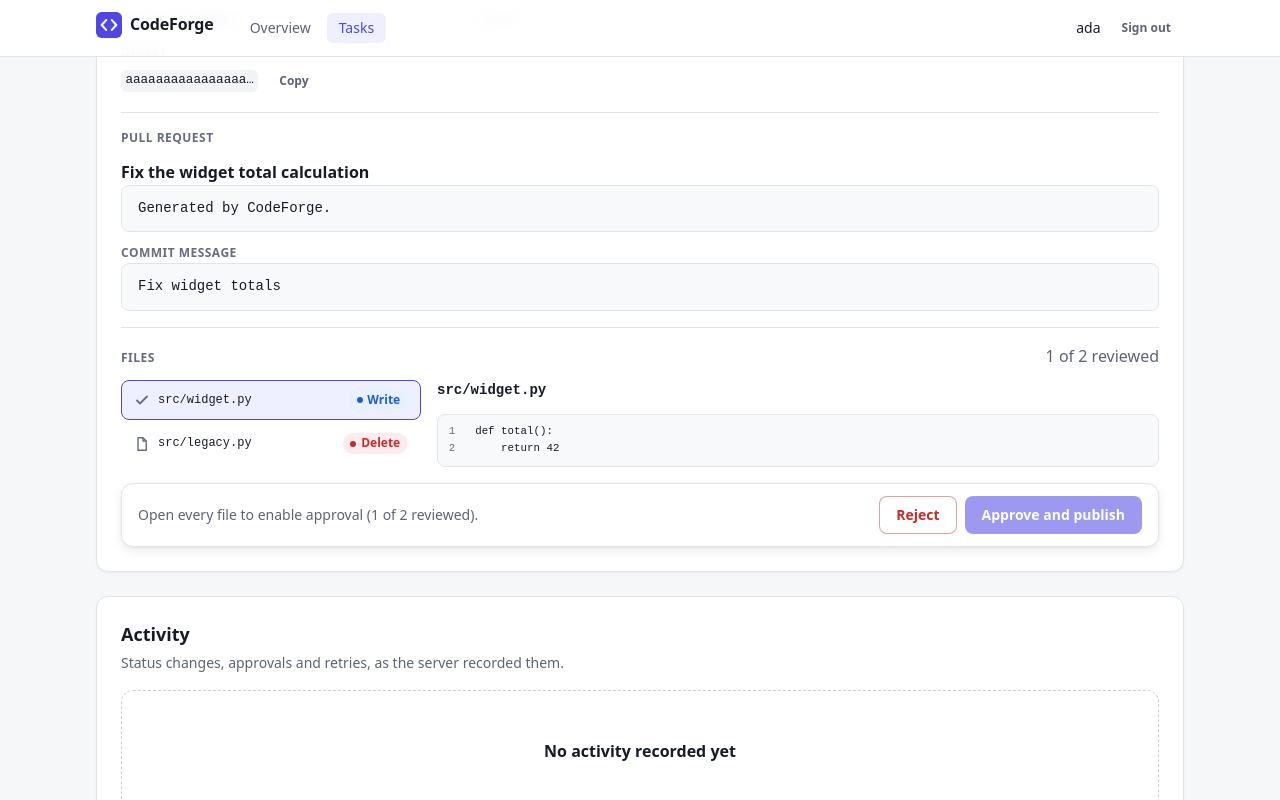
publication review › approves exactly the reviewed digest, with the comment
(page scrolled)
Step 1. Click the button "src/widget.py Write" → (205,400), box [121, 380, 421, 420]
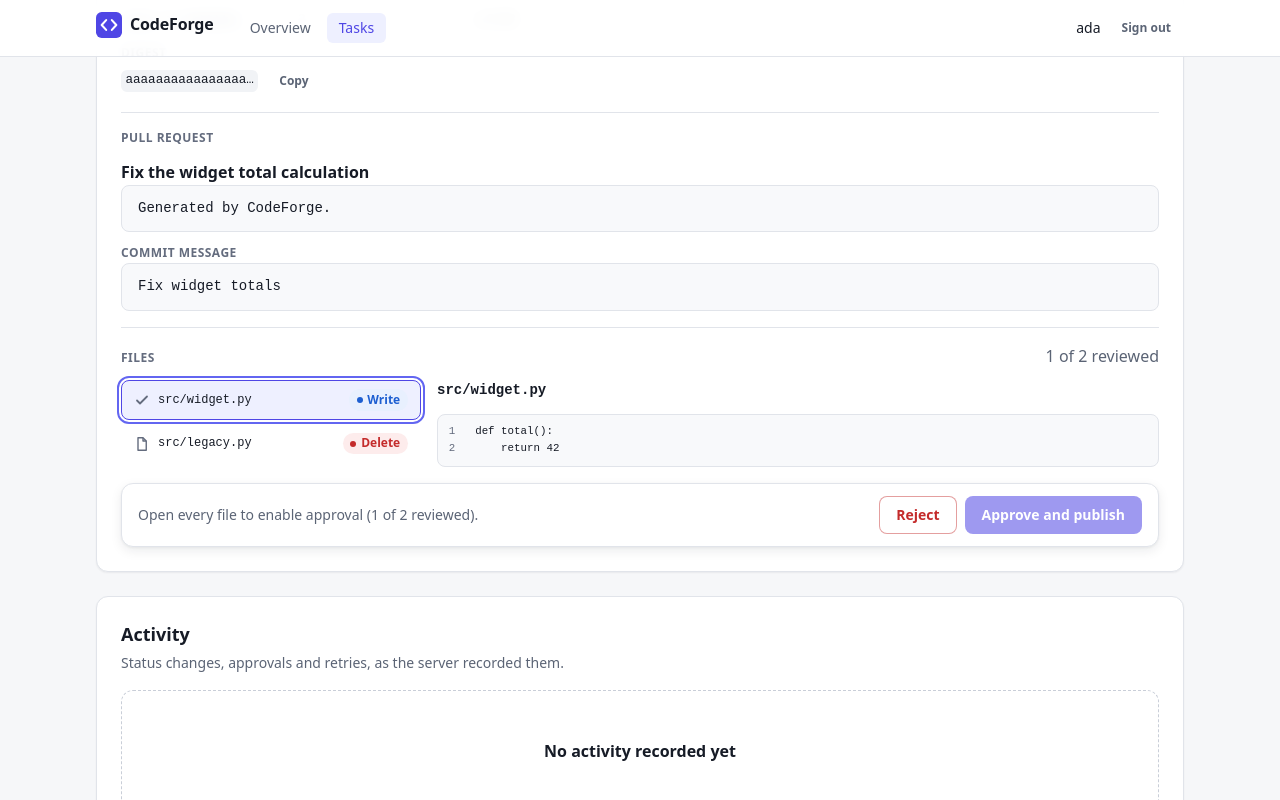
Step 2. Click the button "src/legacy.py Delete" → (205,443), box [121, 424, 421, 464]
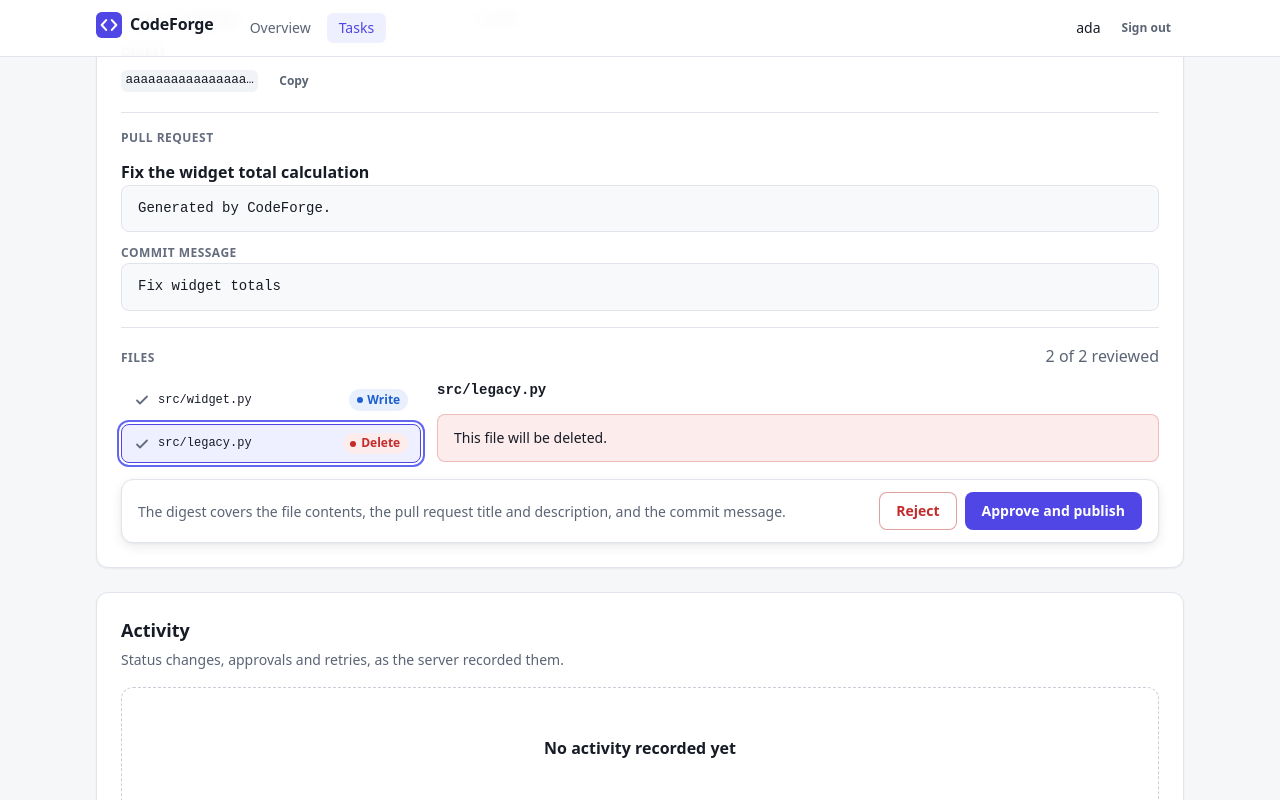
Step 3. Click the button "Approve and publish" → (1053,512), box [964, 492, 1142, 530]
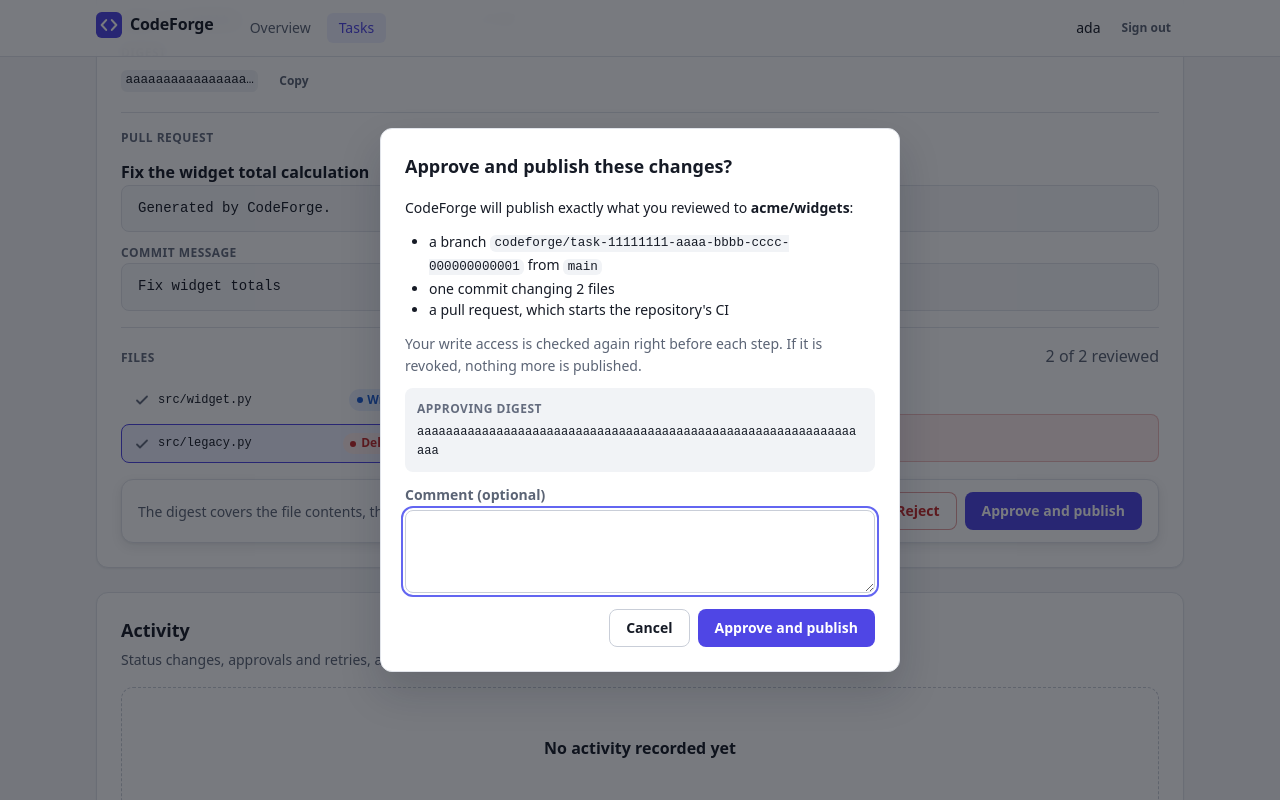
Step 4. Type "Looks right" into the text box labelled "Comment (optional)" → (640,551), box [405, 510, 875, 593]
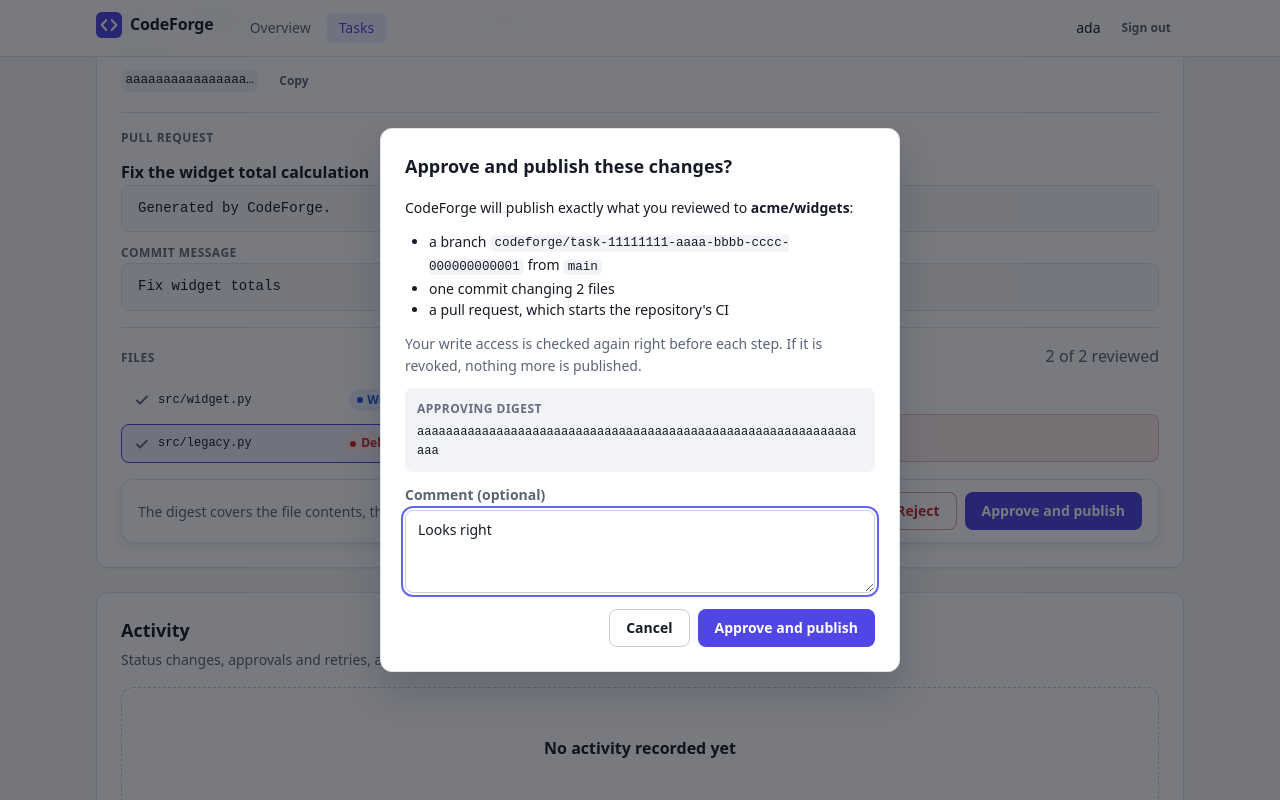
Step 5. Click the button "Approve and publish" → (786,628), box [698, 609, 875, 647]
(page scrolled)
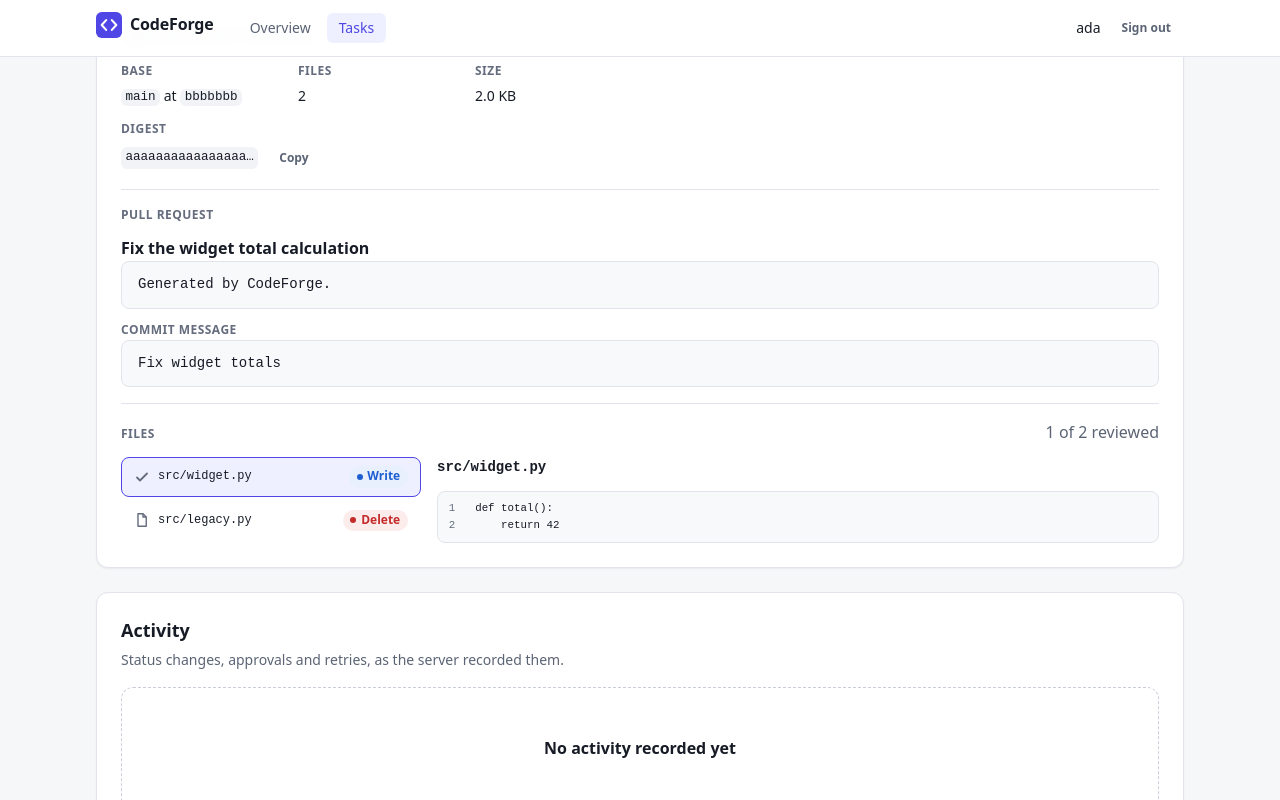
Now the dialog is gone
Now the text "Approved by ada. Publishing…" is shown, box [121, 25, 319, 44]
Now the button "Approve and publish" is gone
